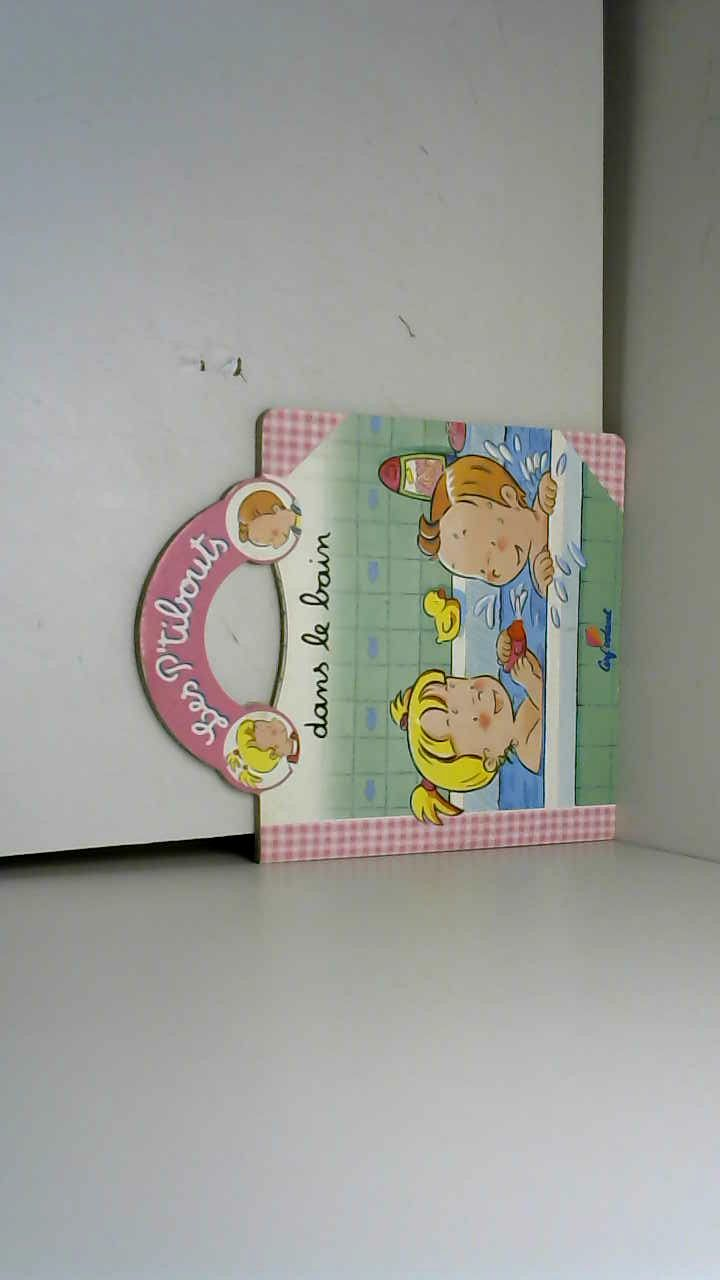book: (110, 380, 720, 889)
